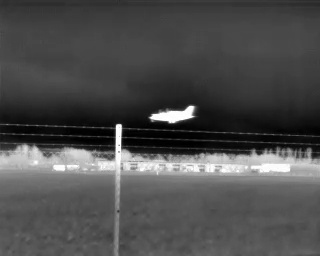AIRPLANE: (148, 104, 199, 126)
